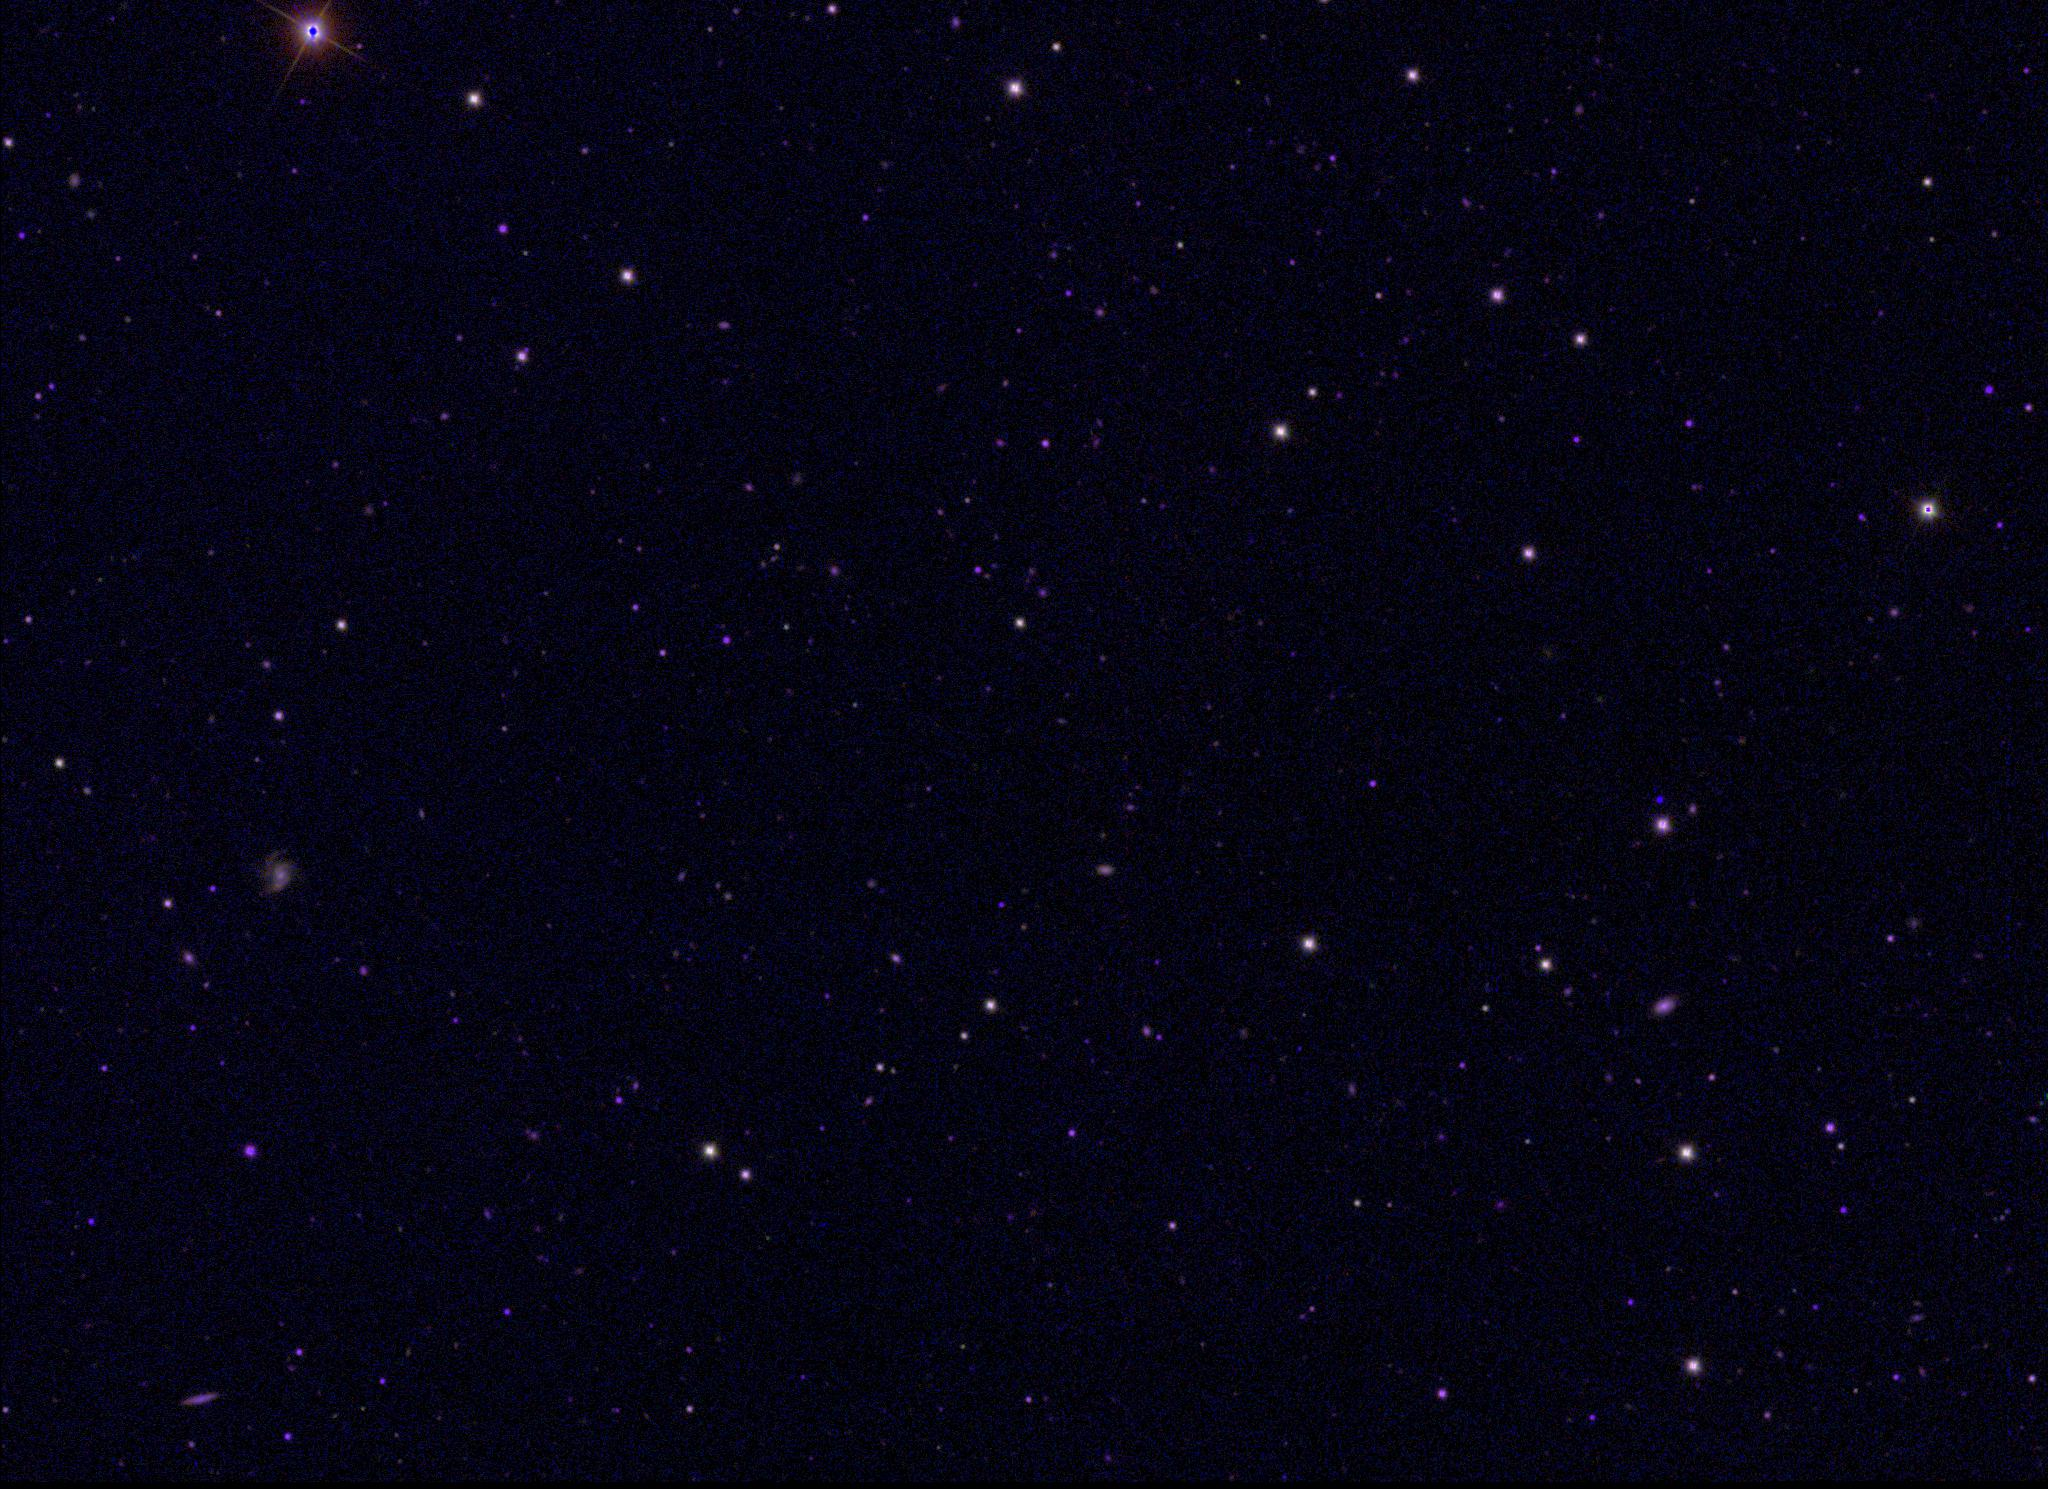L: (1654, 792, 1666, 807)
